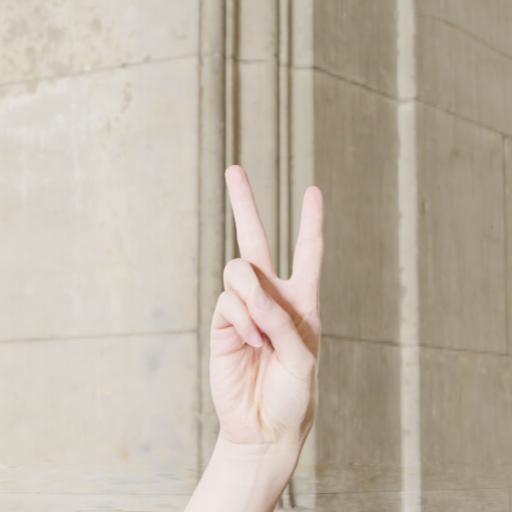V: (180, 136, 348, 466)
